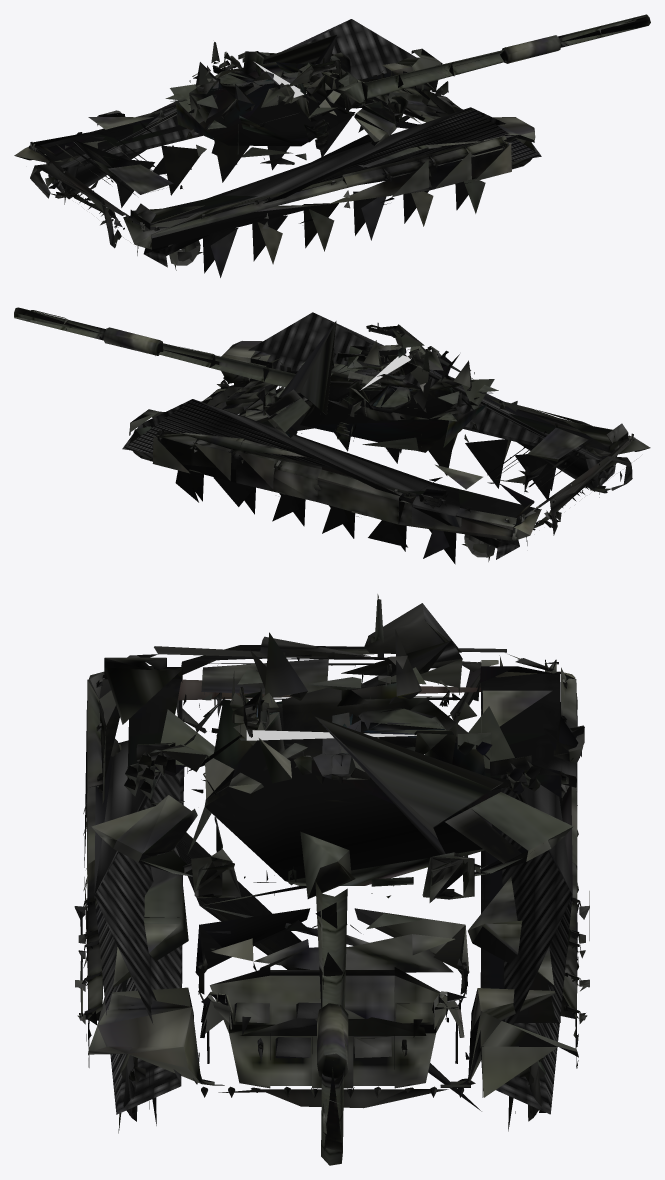
The picture shows the model from 3 angles, top to bottom: view 1: azimuth 30°, elevation 25°; view 2: azimuth 150°, elevation 25°; view 3: azimuth 270°, elevation 25°; orthographic projection. The views are drawn at different scales.
Visible parts, largest first — view 1: g_t90_hull, g_t90_turret, g_t90_gun; view 2: g_t90_hull, g_t90_turret, g_t90_gun; view 3: g_t90_hull, g_t90_turret, g_t90_gun.
Part boxes in pixels (<box>): g_t90_hull: <box>14,19,541,277</box>; g_t90_turret: <box>158,20,636,164</box>; g_t90_gun: <box>338,14,650,99</box>; g_t90_hull: <box>106,312,650,564</box>; g_t90_turret: <box>31,310,505,452</box>; g_t90_gun: <box>14,307,295,402</box>; g_t90_hull: <box>74,603,589,1133</box>; g_t90_turret: <box>91,594,573,1134</box>; g_t90_gun: <box>315,877,413,1165</box>.
Size of the model in its own units: 9.64 by 2.81 by 3.72.
4 materials, 3 textured.
